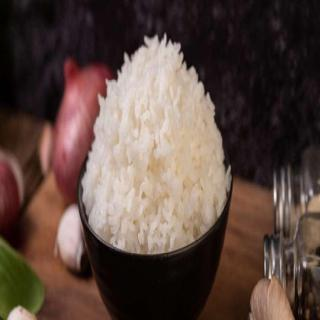Nasi: (81, 33, 233, 258)
